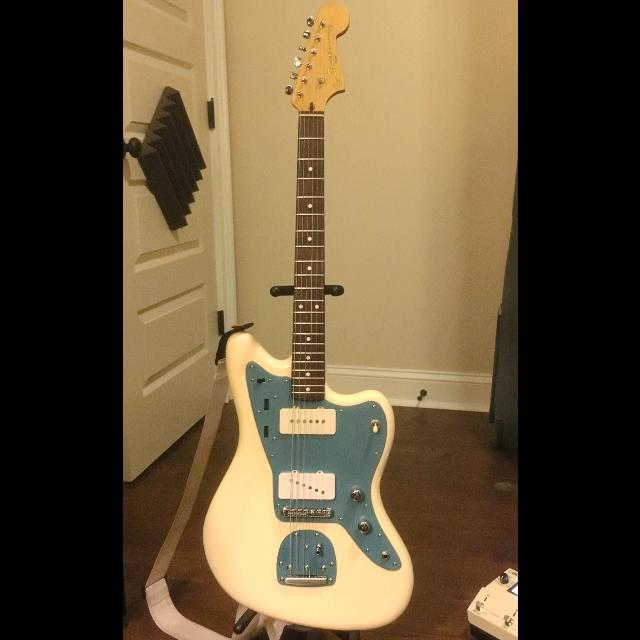Electric-Guitar: (170, 0, 436, 640)
